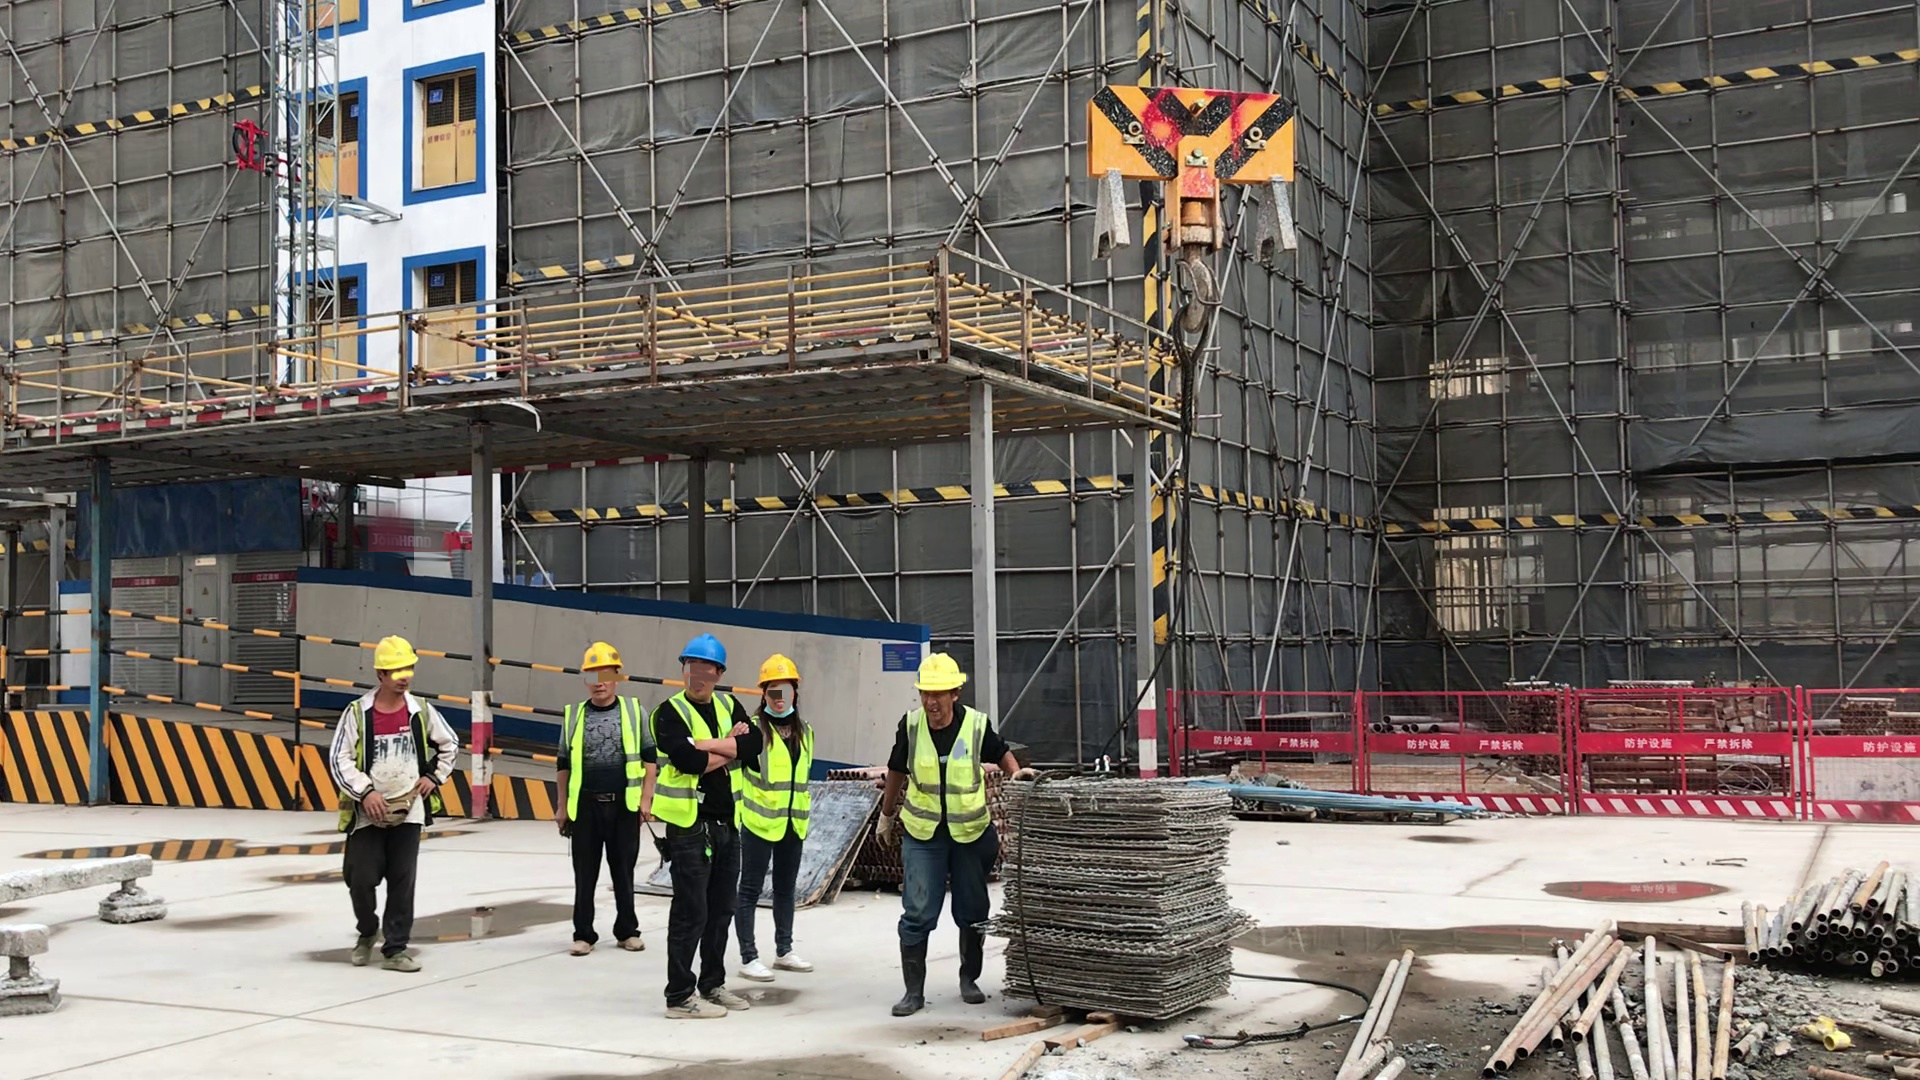fence: (25, 592, 799, 773), (1159, 659, 1920, 830)
helmet: (914, 645, 972, 697), (367, 633, 428, 675), (675, 630, 729, 675), (571, 637, 627, 673), (756, 652, 806, 689)
hook: (1075, 72, 1314, 363)
person: (329, 627, 474, 991), (883, 649, 1025, 1016), (656, 630, 760, 1033), (554, 640, 656, 963), (742, 654, 824, 990)
scaffold: (1489, 903, 1739, 1080), (1725, 858, 1920, 982), (832, 763, 911, 914)
vest: (334, 690, 442, 835), (896, 706, 992, 843), (555, 694, 648, 833), (658, 695, 740, 833), (743, 711, 819, 857)
